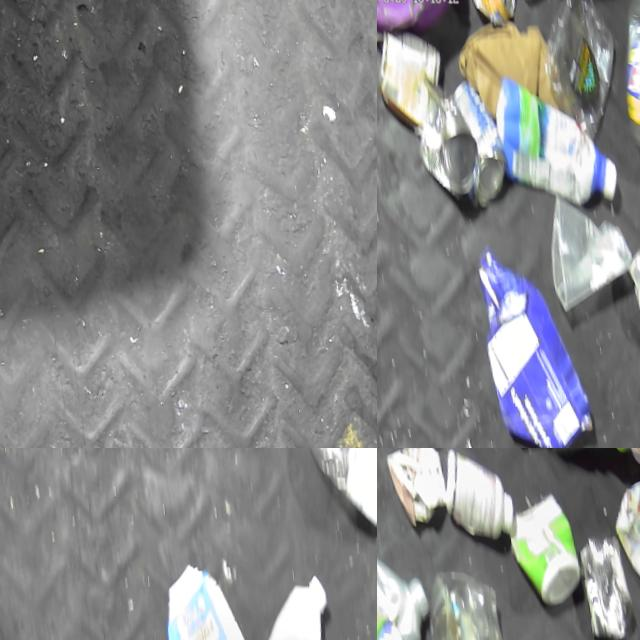can: (410, 88, 481, 197), (377, 25, 448, 134), (450, 75, 506, 206), (573, 525, 629, 640), (618, 219, 640, 336), (469, 0, 519, 18)
non_white_jug: (466, 235, 588, 448), (488, 68, 617, 207), (149, 557, 260, 640), (608, 474, 640, 631), (377, 0, 465, 42)
plastic_bottle: (281, 448, 377, 541), (611, 0, 640, 160)
